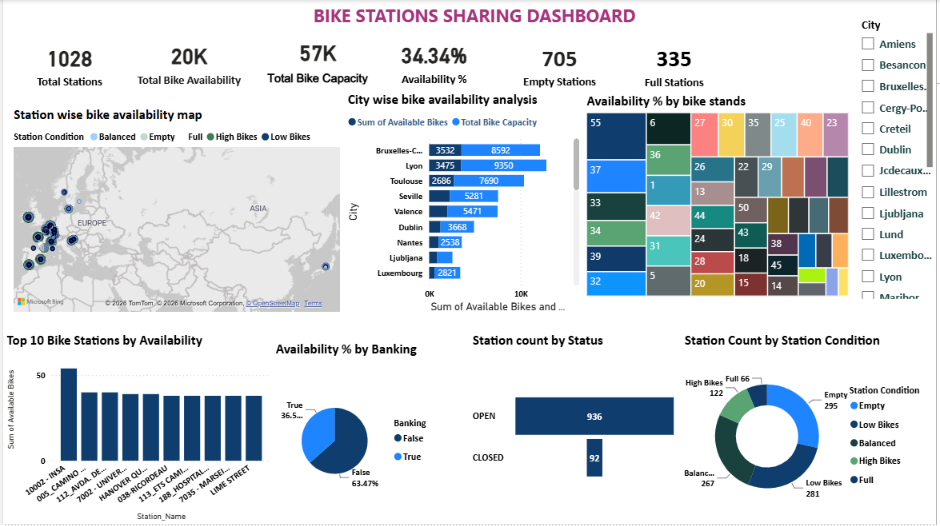

What the dashboard file says about the page in this screenshot:
{"tool":"powerbi","page":{"name":"Page 1","canvas":[1280,720],"ordinal":0},"visuals":[{"type":"card","fields":{"Values":["BikeStations.Total Stations"]},"box":[9.6,53.5,163.3,70],"z":0},{"type":"card","fields":{"Values":["BikeStations.Total Bikes Available"]},"box":[164.7,48,181.1,75.5],"z":1000},{"type":"card","fields":{"Values":["BikeStations.Total Capacity"]},"box":[344.4,43.9,174.3,76.8],"z":2000},{"type":"card","fields":{"Values":["BikeStations.Occupancy Rate"]},"box":[509.1,48,164.7,72.7],"z":3000},{"type":"slicer","fields":{"Values":["BikeStations.City"]},"box":[1165,19.2,115.3,396.6],"z":4000},{"type":"textbox","box":[4.1,0,1088.2,43.9],"z":5000},{"type":"card","fields":{"Values":["BikeStations.Empty Stations"]},"box":[679.2,52.1,168.8,72.7],"z":6000},{"type":"card","fields":{"Values":["BikeStations.Full Stations"]},"box":[835.7,50.8,170.2,76.8],"z":7000},{"type":"treemap","title":"Availability % by bike stands ","fields":{"Group":["BikeStations.Bike Stands"],"Values":["BikeStations.Availability %"]},"box":[795.9,127.6,369.1,284],"z":8000},{"type":"pieChart","fields":{"Category":["BikeStations.Banking"],"Y":["BikeStations.Availability %"]},"box":[369.1,467.9,238.8,252.5],"z":9000},{"type":"donutChart","title":" Station Count by  Station Condition","fields":{"Category":["BikeStations.Station Condition"],"Y":["BikeStations.Total Stations"]},"box":[930.4,455.6,349.9,264.8],"z":10000},{"type":"funnel","title":"Station count by Status","fields":{"Category":["BikeStations.Status"],"Y":["BikeStations.Total Stations"]},"box":[639.5,455.6,290.9,264.8],"z":11000},{"type":"map","title":"Station wise bike availability map","fields":{"Y":["BikeStations.Latitude"],"X":["BikeStations.Longitude"],"Size":["BikeStations.Total Bike Availability"],"Series":["BikeStations.Station Condition"]},"box":[9.6,145.5,458.3,288.2],"z":12000},{"type":"columnChart","title":"Top 10 Bike Stations by Availability","fields":{"Category":["BikeStations.Station_Name"],"Y":["Sum(BikeStations.Available Bikes)"]},"box":[0,455.6,371.9,264.8],"z":13000},{"type":"barChart","title":"City wise bike availability analysis","fields":{"Category":["BikeStations.City"],"Y":["Sum(BikeStations.Available Bikes)","BikeStations.Total Bike Capacity"]},"box":[467.9,124.9,328,308.7],"z":14000}]}

Visuals, with their boxes in screenshot pixels (x1, y1, x2, y2), scaled from the page's 1280x720 canvas onto the 940x526 screenshot:
card - BikeStations.Total Stations: bbox=[7, 39, 127, 90]
card - BikeStations.Total Bikes Available: bbox=[121, 35, 254, 90]
card - BikeStations.Total Capacity: bbox=[253, 32, 381, 88]
card - BikeStations.Occupancy Rate: bbox=[374, 35, 495, 88]
slicer - BikeStations.City: bbox=[856, 14, 939, 304]
textbox: bbox=[3, 0, 802, 32]
card - BikeStations.Empty Stations: bbox=[499, 38, 623, 91]
card - BikeStations.Full Stations: bbox=[614, 37, 739, 93]
"Availability % by bike stands " treemap: bbox=[584, 93, 856, 301]
pieChart - BikeStations.Banking x BikeStations.Availability %: bbox=[271, 342, 446, 525]
" Station Count by  Station Condition" donutChart: bbox=[683, 333, 939, 525]
"Station count by Status" funnel: bbox=[470, 333, 683, 525]
"Station wise bike availability map" map: bbox=[7, 106, 344, 317]
"Top 10 Bike Stations by Availability" columnChart: bbox=[0, 333, 273, 525]
"City wise bike availability analysis" barChart: bbox=[344, 91, 584, 317]
